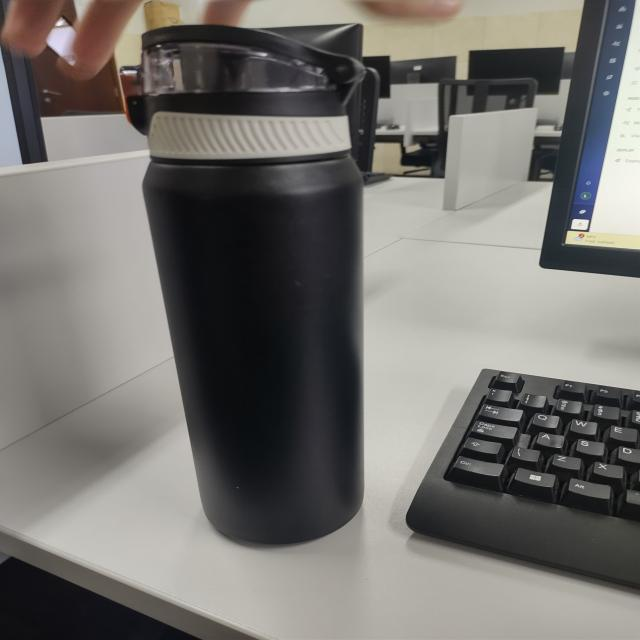Garrafa: (113, 0, 458, 559)
